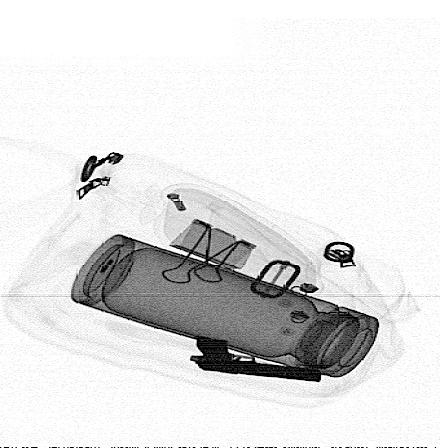Gun: (190, 334, 323, 384)
